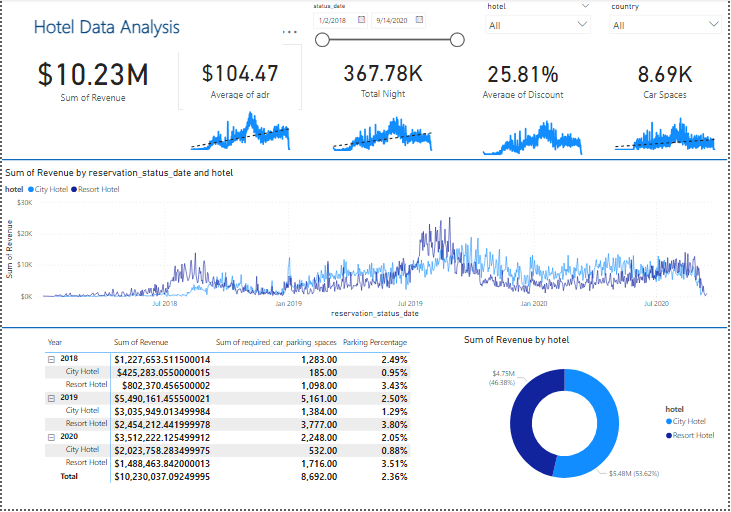

Layout of this report page (visuals, bound fields, positions):
{"tool":"powerbi","page":{"name":"Page 1","canvas":[1280,900],"ordinal":0},"visuals":[{"type":"shape","box":[0,270.4,1280,26.9],"z":0},{"type":"shape","box":[0,567.8,1280,23.5],"z":1000},{"type":"card","fields":{"Values":["Sum(Query1.Revenue)"]},"box":[38.6,57.1,243.6,159.6],"z":2000},{"type":"card","fields":{"Values":["Avg(Query1.adr)"]},"box":[310.6,79.4,218.8,116.5],"z":3000},{"type":"card","fields":{"Values":["Query1.Total Night"]},"box":[562.9,79.4,218.8,114.7],"z":4000},{"type":"card","fields":{"Values":["Avg(Query1.Discount)"]},"box":[809.7,85.7,218.4,104.1],"z":5000},{"type":"lineChart","fields":{"Category":["Query1.reservation_status_date"],"Y":["Sum(Query1.Revenue)"],"Series":["Query1.hotel"]},"box":[0,296.5,1270.6,271.8],"z":6000},{"type":"slicer","fields":{"Values":["Query1.country"]},"box":[1061.6,0,218.4,75.6],"z":7000},{"type":"slicer","fields":{"Values":["Query1.hotel"]},"box":[843.3,0,204.9,75.6],"z":8000},{"type":"lineChart","fields":{"Category":["Query1.reservation_status_date"],"Y":["Sum(Query1.adr)"]},"box":[319.4,176.5,202.9,95.3],"z":9000},{"type":"lineChart","fields":{"Category":["Query1.reservation_status_date"],"Y":["Query1.Total Night"]},"box":[570,178.2,202.9,95.3],"z":9001},{"type":"lineChart","fields":{"Category":["Query1.reservation_status_date"],"Y":["Query1.Total Night"]},"box":[824.8,174.7,203.3,95.7],"z":9002},{"type":"card","fields":{"Values":["Sum(Query1.required_car_parking_spaces)"]},"box":[1059.9,85.7,218.4,104.1],"z":9003},{"type":"lineChart","fields":{"Category":["Query1.reservation_status_date"],"Y":["Sum(Query1.required_car_parking_spaces)"]},"box":[1067.6,176.5,204.7,95.3],"z":9004},{"type":"donutChart","fields":{"Category":["Query1.hotel"],"Y":["Sum(Query1.Revenue)"]},"box":[810,591.2,460.6,296.5],"z":9005},{"type":"pivotTable","fields":{"Rows":["Query1.reservation_status_date.Variation.Date Hierarchy.Year","Query1.hotel"],"Values":["Sum(Query1.Revenue)","Sum(Query1.required_car_parking_spaces)","Query1.Parking Percentage"]},"box":[70.6,591.2,702.4,296.5],"z":9006},{"type":"slicer","fields":{"Values":["Query1.reservation_status_date"]},"box":[536.5,0,287.6,111.2],"z":9007},{"type":"textbox","box":[51.2,19.4,444.7,74.1],"z":9008},{"type":"lineChart","fields":{"Category":["Query1.reservation_status_date"],"Y":["Query1.Total Night"]},"box":[834.8,184.7,203.3,95.7],"z":9009}]}

Visuals, with their boxes in screenshot pixels (x1, y1, x2, y2), scaled from the page's 1280x900 canvas onto the 731x512 screenshot:
shape: detection(0, 154, 730, 169)
shape: detection(0, 323, 730, 336)
card - Sum(Query1.Revenue): detection(22, 32, 161, 123)
card - Avg(Query1.adr): detection(177, 45, 302, 111)
card - Query1.Total Night: detection(321, 45, 446, 110)
card - Avg(Query1.Discount): detection(462, 49, 587, 108)
lineChart - Query1.reservation_status_date x Sum(Query1.Revenue): detection(0, 169, 726, 323)
slicer - Query1.country: detection(606, 0, 730, 43)
slicer - Query1.hotel: detection(482, 0, 599, 43)
lineChart - Query1.reservation_status_date x Sum(Query1.adr): detection(182, 100, 298, 155)
lineChart - Query1.reservation_status_date x Query1.Total Night: detection(326, 101, 441, 156)
lineChart - Query1.reservation_status_date x Query1.Total Night: detection(471, 99, 587, 154)
card - Sum(Query1.required_car_parking_spaces): detection(605, 49, 730, 108)
lineChart - Query1.reservation_status_date x Sum(Query1.required_car_parking_spaces): detection(610, 100, 727, 155)
donutChart - Query1.hotel x Sum(Query1.Revenue): detection(463, 336, 726, 505)
pivotTable - Query1.reservation_status_date.Variation.Date Hierarchy.Year x Query1.hotel: detection(40, 336, 441, 505)
slicer - Query1.reservation_status_date: detection(306, 0, 471, 63)
textbox: detection(29, 11, 283, 53)
lineChart - Query1.reservation_status_date x Query1.Total Night: detection(477, 105, 593, 160)
